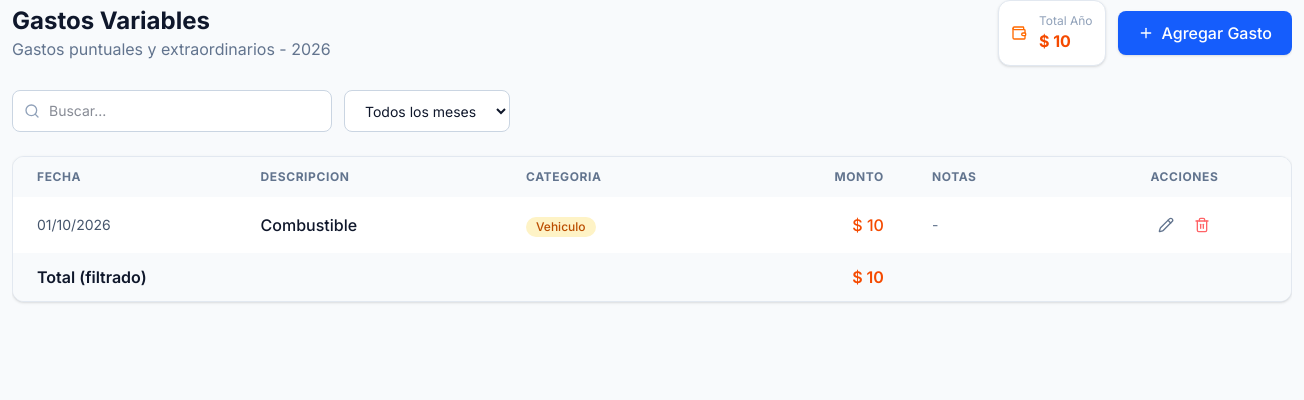
Scenario: distingue una búsqueda sin resultados y permite limpiar los filtros
The width and height of the screenshot is (1304, 400).
Step 1. Type "inexistente" into the field named "Buscar gastos variables" → (172, 111), box [12,90,332,132]
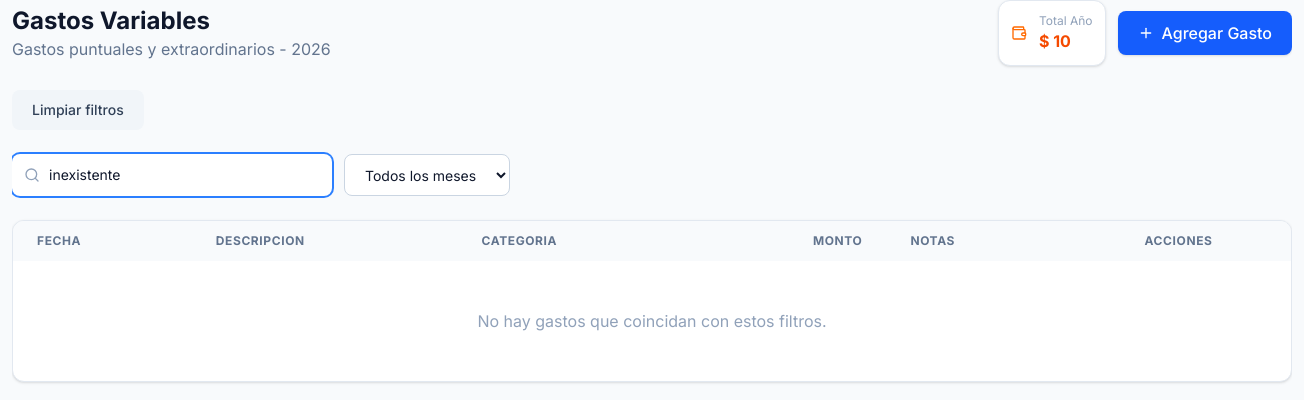
Step 2. Click the button "Limpiar filtros" → click(78, 110), box [12,90,144,130]
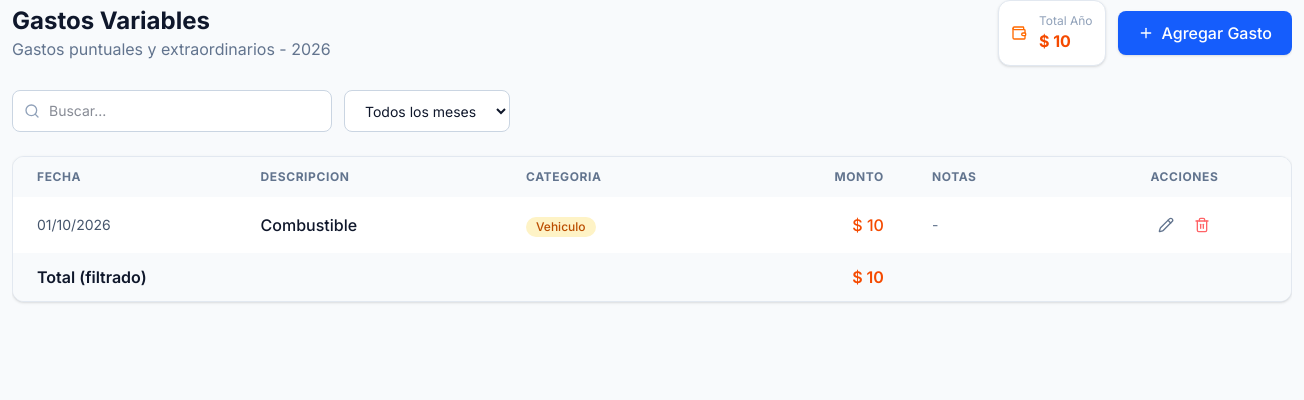
Now the field named "Buscar gastos variables" is empty, box [12,90,332,132]
